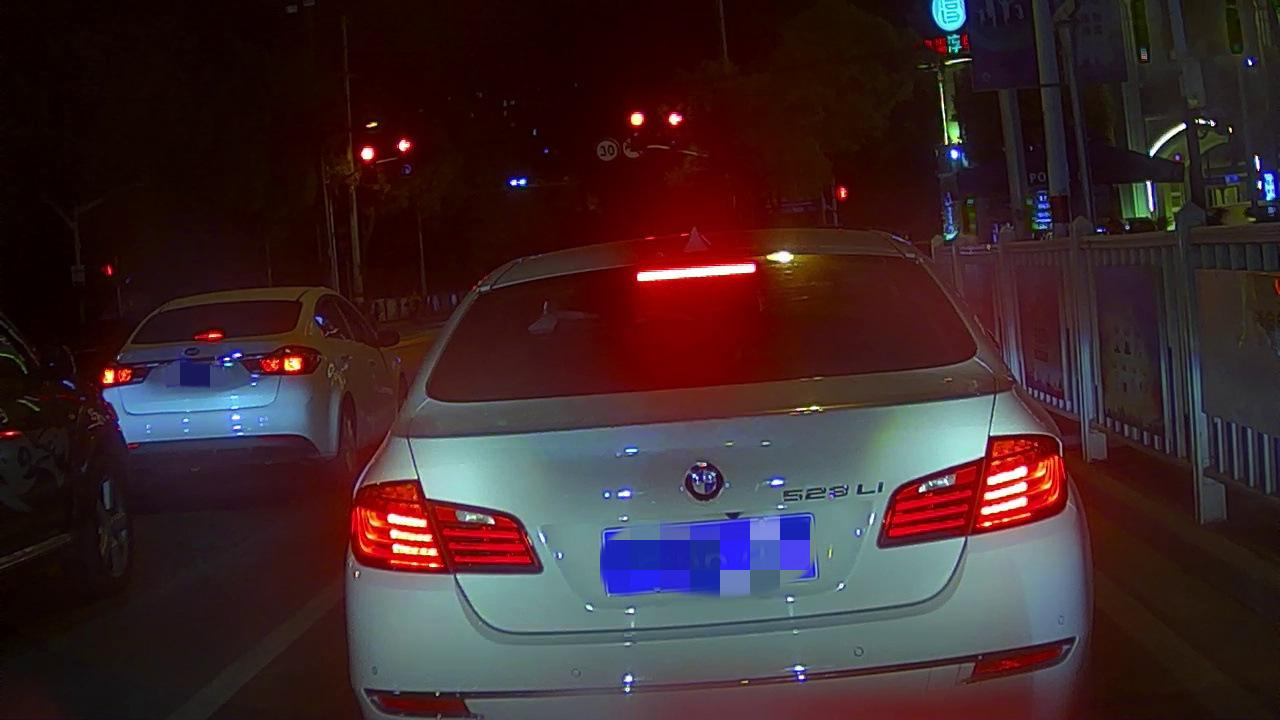traffic_light: (627, 108, 646, 149), (359, 144, 379, 181), (664, 107, 685, 130), (394, 135, 414, 155)
